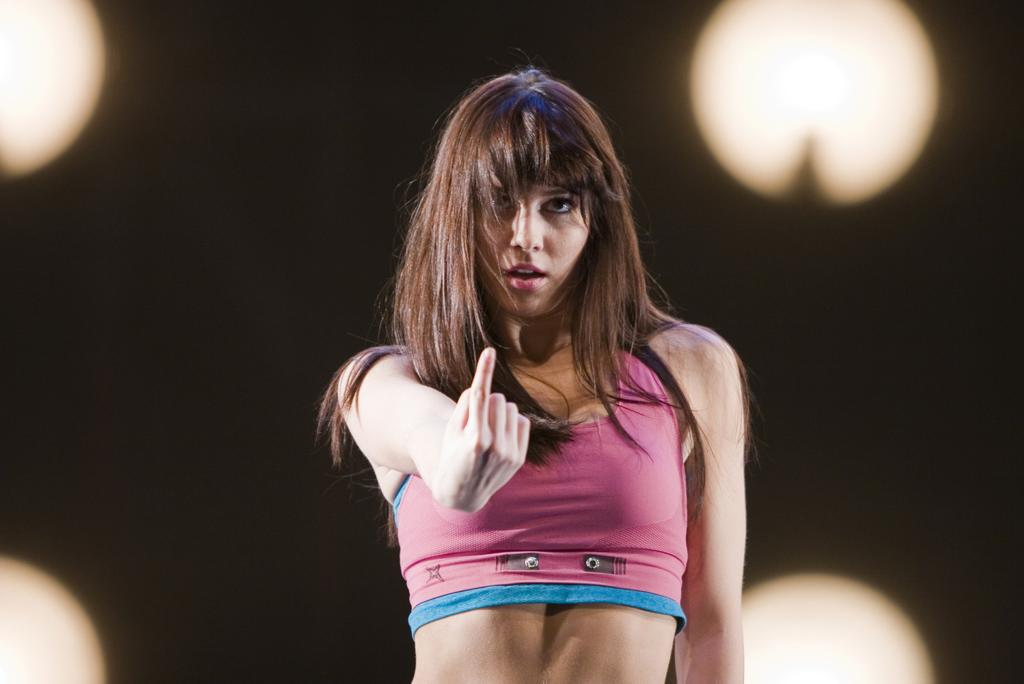face: (469, 131, 597, 317)
